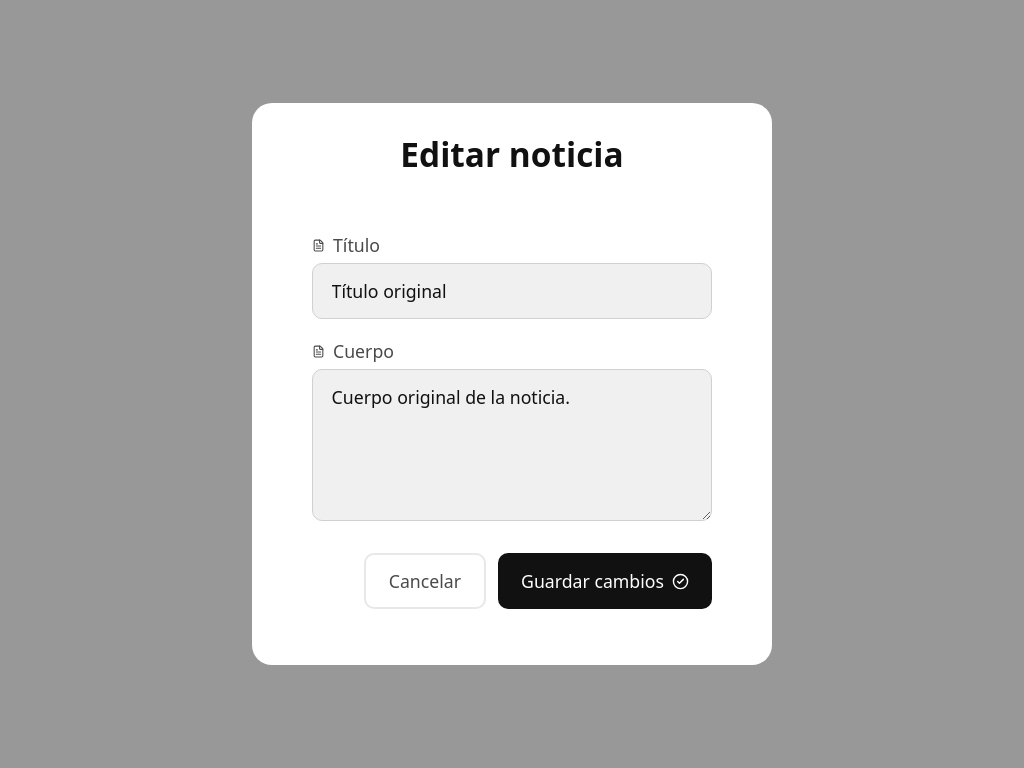
it: EditNoticiaForm › el botón Guardar muestra texto de carga mientras se guarda
Click the button "Guardar cambios". click: (605,581)
box: [498, 553, 712, 609]
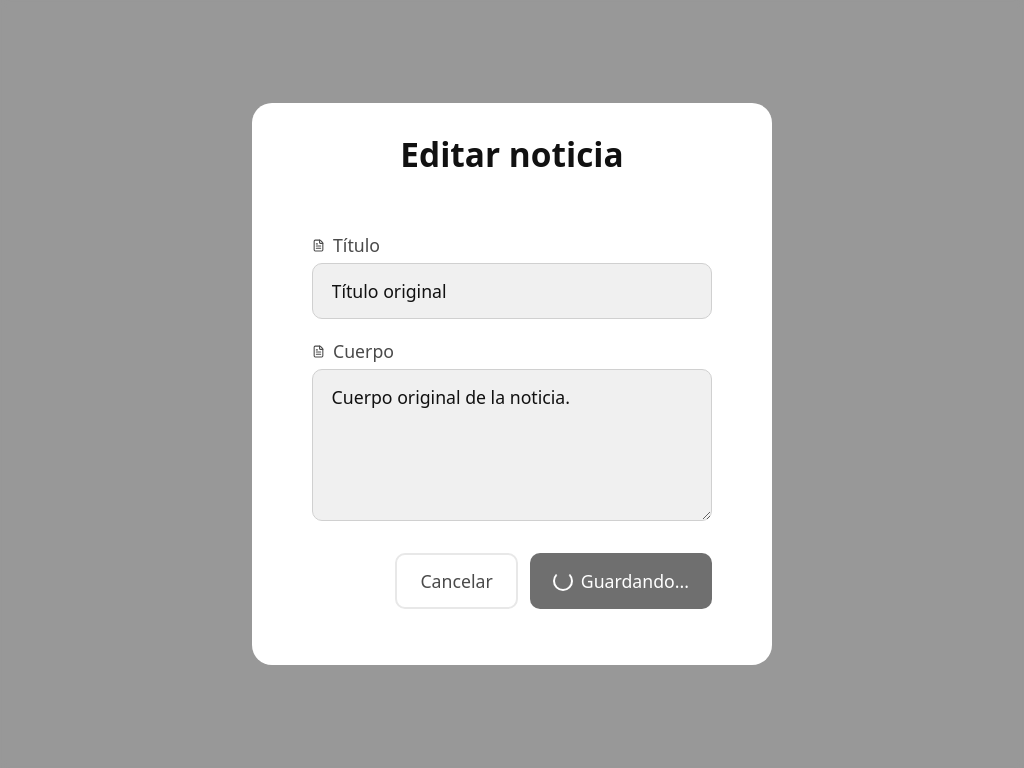
Result: the button "Guardando..." is disabled at [530, 553, 712, 609]
